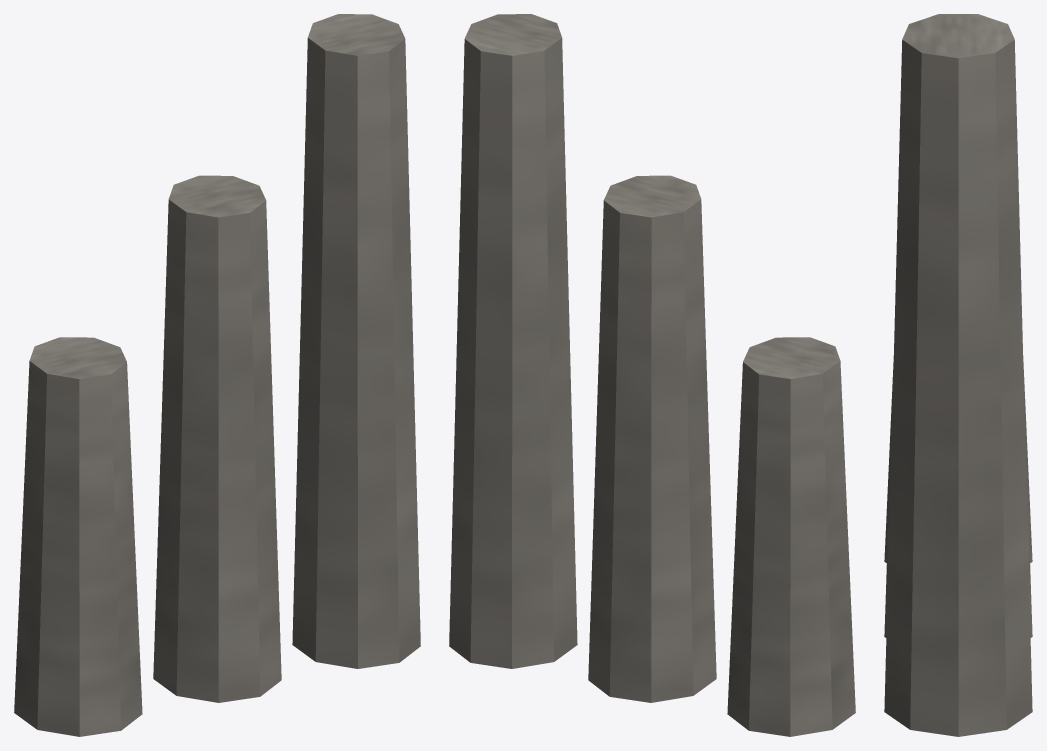
The model's file is ruins_pillars_3.fbx.
3 renders of one model, left to right at view 1: azimuth 30°, elevation 25°; view 2: azimuth 150°, elevation 25°; view 3: azimuth 270°, elevation 25°, orthographic. The views are drawn at different scales.
Visible parts, largest first — view 1: ruins_pillars_3; view 2: ruins_pillars_3; view 3: ruins_pillars_3.
Boxes of the visible parts, <box> form: ruins_pillars_3: <box>14,14,420,736</box>; ruins_pillars_3: <box>449,14,855,736</box>; ruins_pillars_3: <box>884,14,1032,736</box>.
Bounding box in the file's own units: 400 × 600 × 120.
1 material, 1 textured.
